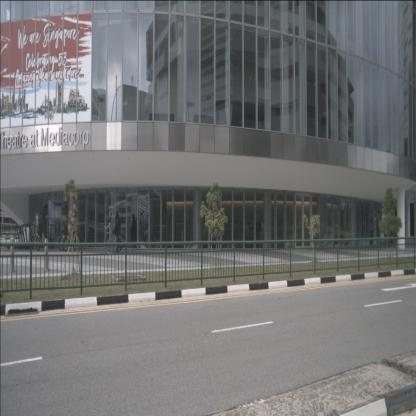human-pedestrian-adult: (112, 210, 122, 253), (105, 211, 114, 254), (131, 214, 137, 251)
vehicle-bicycle: (62, 226, 80, 251), (57, 228, 76, 250), (35, 228, 49, 250)
vehicle-car: (283, 236, 300, 252)
